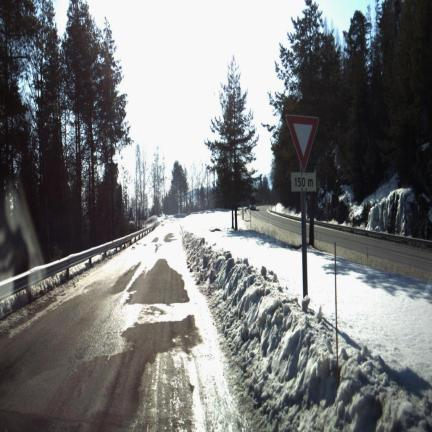Road: (0, 224, 248, 430)
